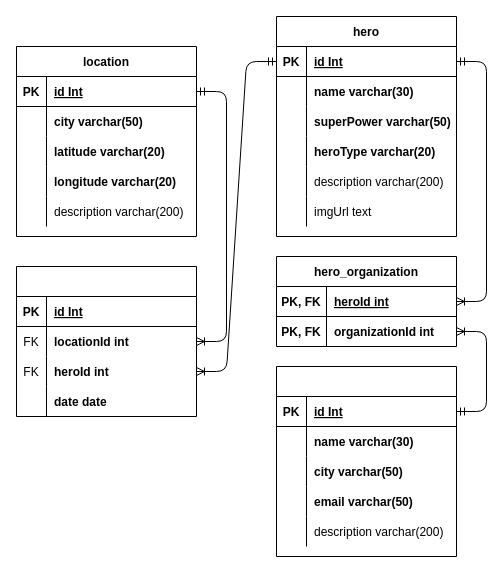
This 503x573 diagram has some shape labels left out. Here are the shapes that lost their labels. From the top down, the box of each, then its label:
(16, 266, 196, 416): sighting
(276, 366, 456, 556): organization
